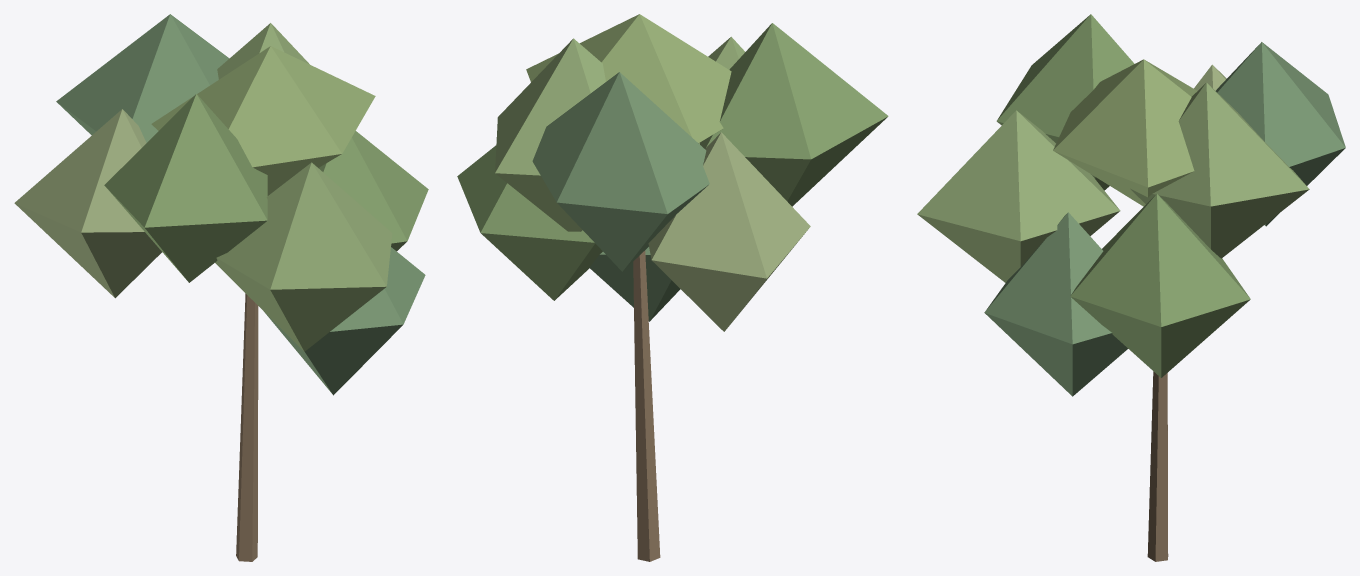
3 views of the same model, side by side, from view 1: azimuth 30°, elevation 25°; view 2: azimuth 150°, elevation 25°; view 3: azimuth 270°, elevation 25° (orthographic). The views are drawn at different scales.
Size of the model in its own units: 9.33 by 12.85 by 9.87.
